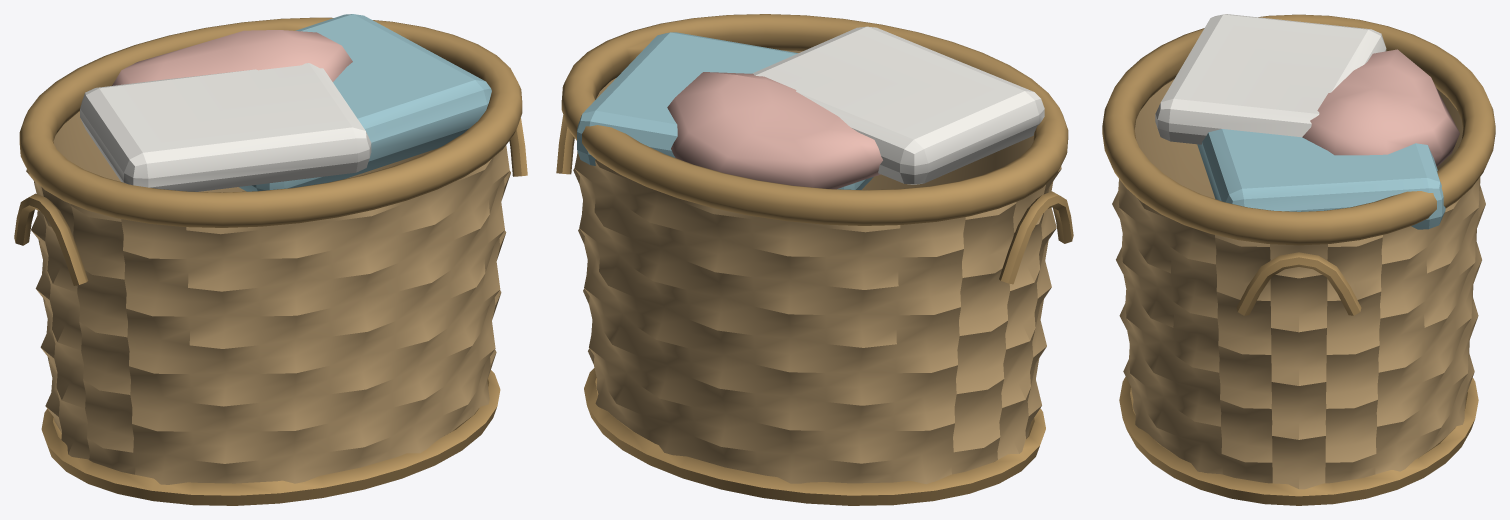
Rendered from laundryBasket.glb.
The picture shows the model from 3 angles, left to right: view 1: azimuth 30°, elevation 25°; view 2: azimuth 150°, elevation 25°; view 3: azimuth 270°, elevation 25°; orthographic projection. The views are drawn at different scales.
Parts seen in each view (by area): view 1: laundryBasket; view 2: laundryBasket; view 3: laundryBasket.
Boxes of the visible parts, <box> form: laundryBasket: <box>14,14,527,505</box>; laundryBasket: <box>556,14,1073,505</box>; laundryBasket: <box>1102,14,1495,505</box>.
Size of the model in its own units: 0.5433 by 0.3934 by 0.4209.
